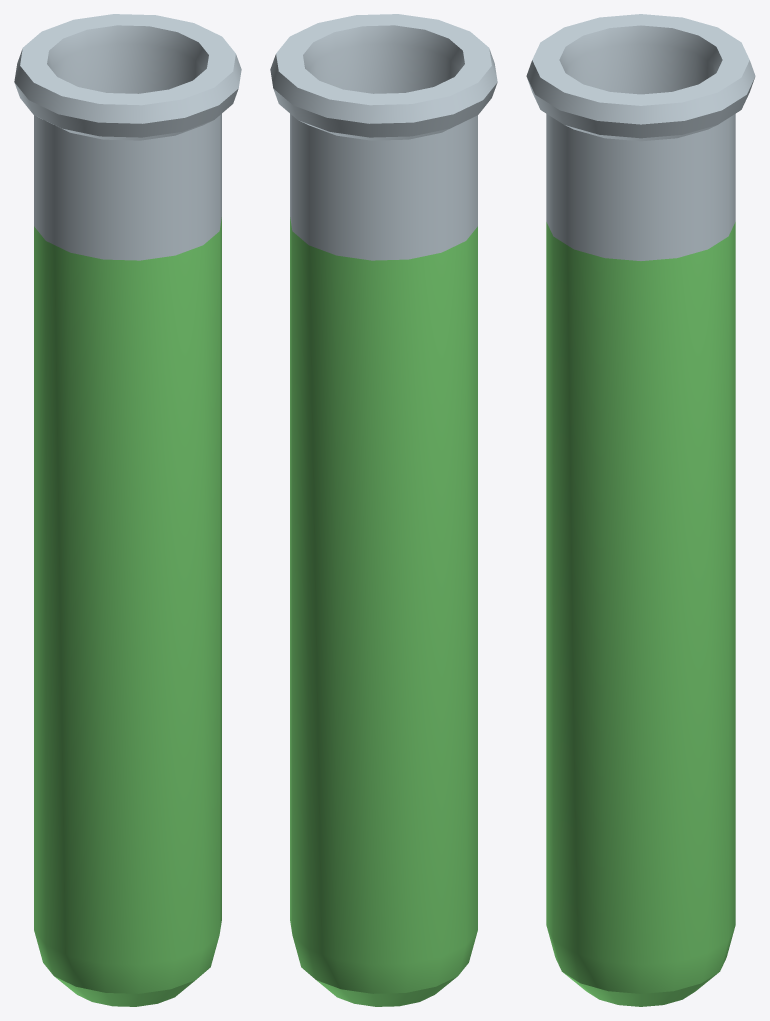
File: vialLarge.fbx
3 renders of one model, left to right at view 1: azimuth 30°, elevation 25°; view 2: azimuth 150°, elevation 25°; view 3: azimuth 270°, elevation 25°, orthographic.
Visible parts, largest first — view 1: Vial Large; view 2: Vial Large; view 3: Vial Large.
Part boxes in pixels (x1,y1,x2,y2): Vial Large: (14, 14, 241, 1006); Vial Large: (270, 14, 497, 1006); Vial Large: (526, 14, 755, 1006).
Size of the model in its own units: 3.76 by 3.76 by 16.71.
